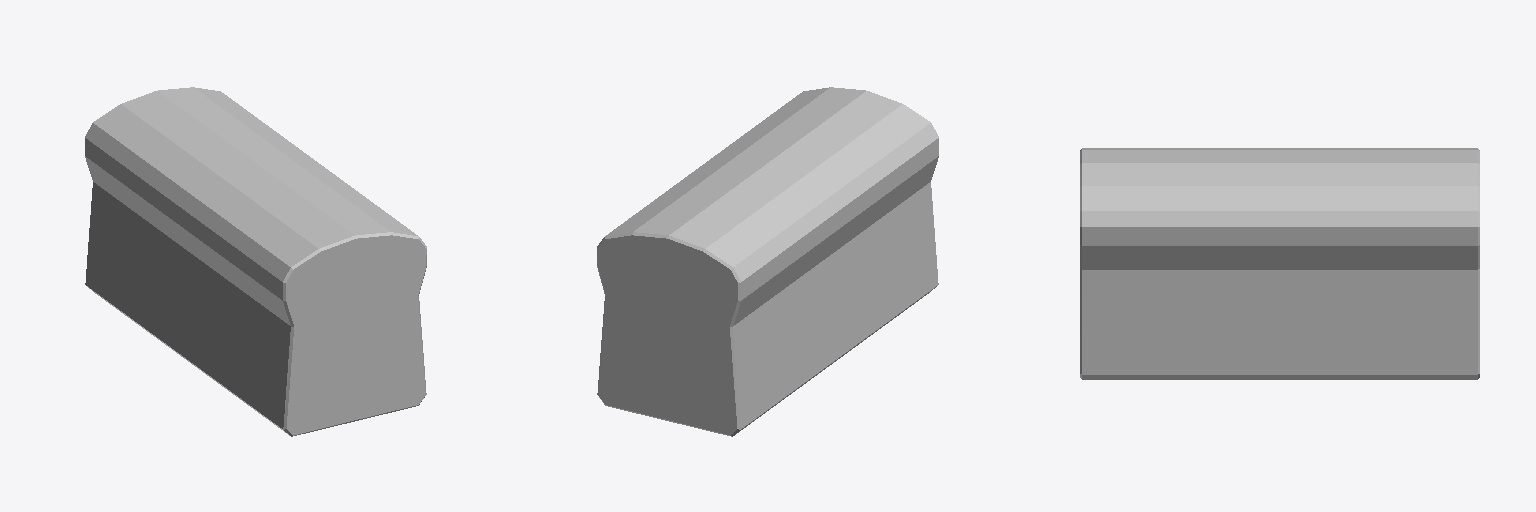
The model's file is LoafBread_brown.obj.
3 views of the same model, side by side, from view 1: azimuth 30°, elevation 25°; view 2: azimuth 150°, elevation 25°; view 3: azimuth 270°, elevation 25° (orthographic).
Parts seen in each view (by area): view 1: Breadloaf_brown; view 2: Breadloaf_brown; view 3: Breadloaf_brown.
Boxes of the visible parts, <box> form: Breadloaf_brown: <box>85,87,426,436</box>; Breadloaf_brown: <box>597,87,938,436</box>; Breadloaf_brown: <box>1080,148,1479,379</box>.
Bounding box in the file's own units: 0.2108 × 0.2588 × 0.5056.